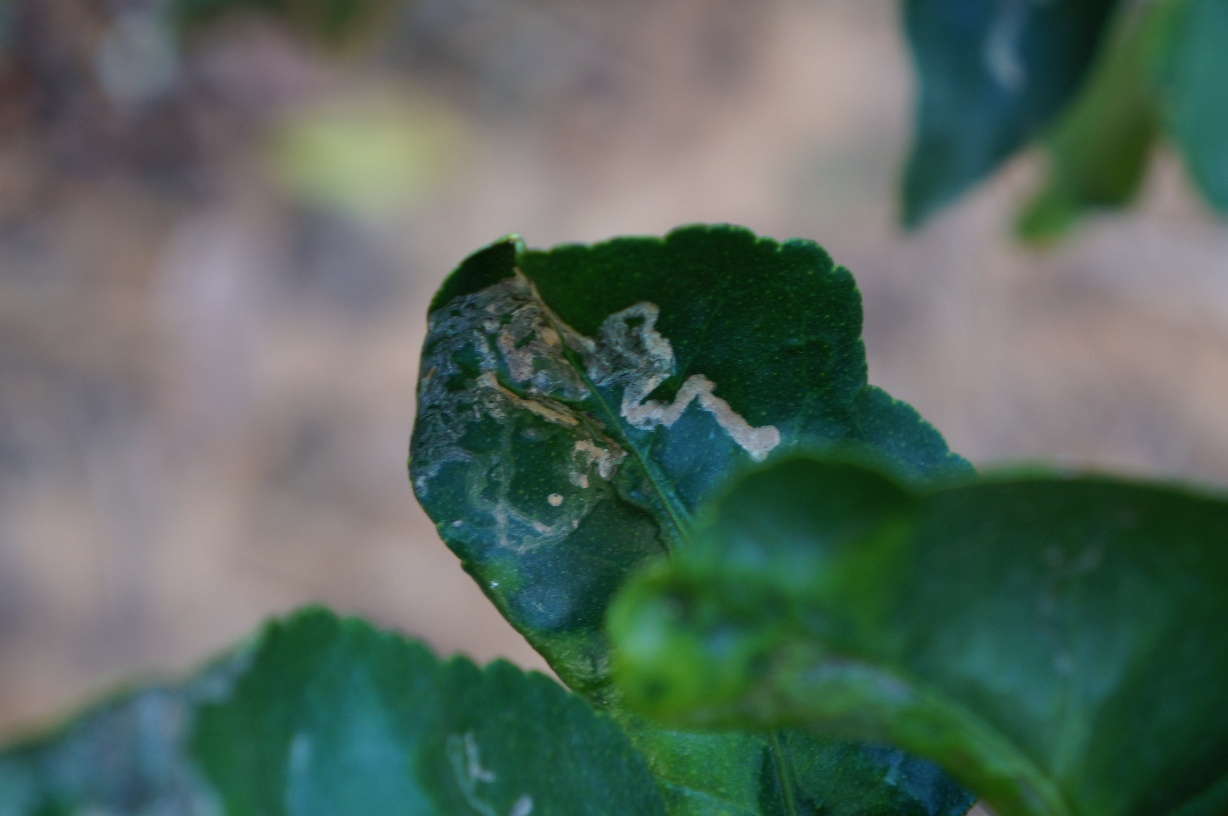damage: (392, 262, 811, 554)
